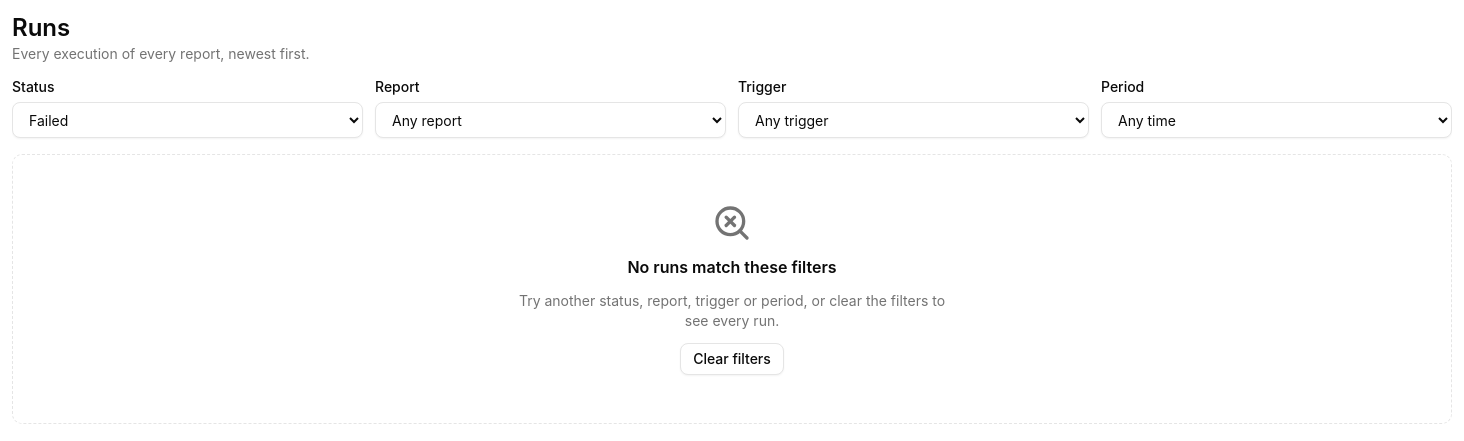
Test: RunsView › says when the filters hide every run, and clears them
The image size is (1464, 441).
Step 1. Click the button with test id "runs-clear-filters" → x=732, y=359, box [680,343,784,375]
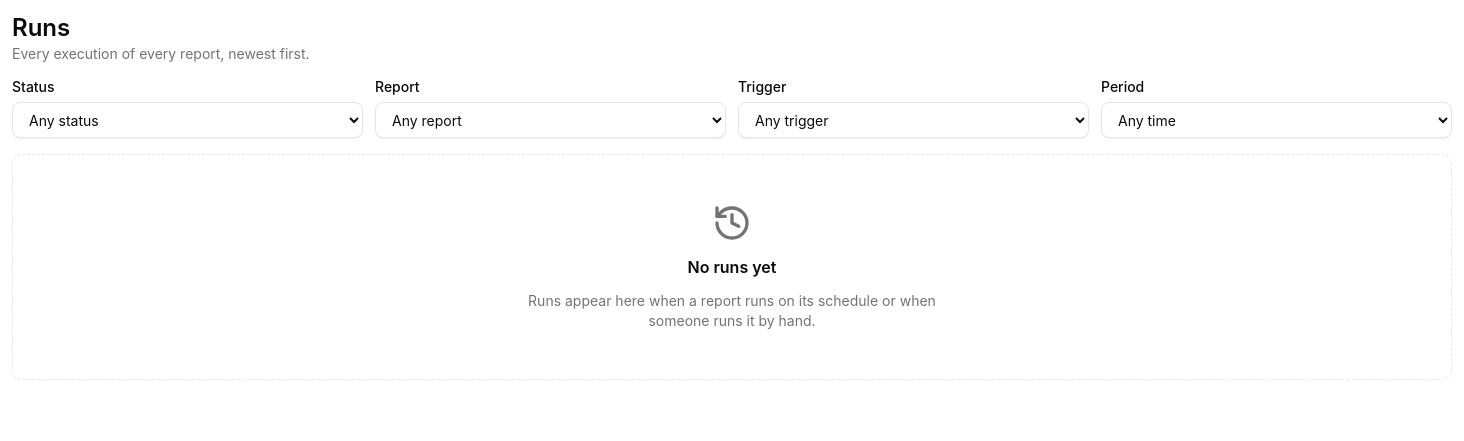
Expected: the text "No runs yet" is shown, [688,255,776,279]
